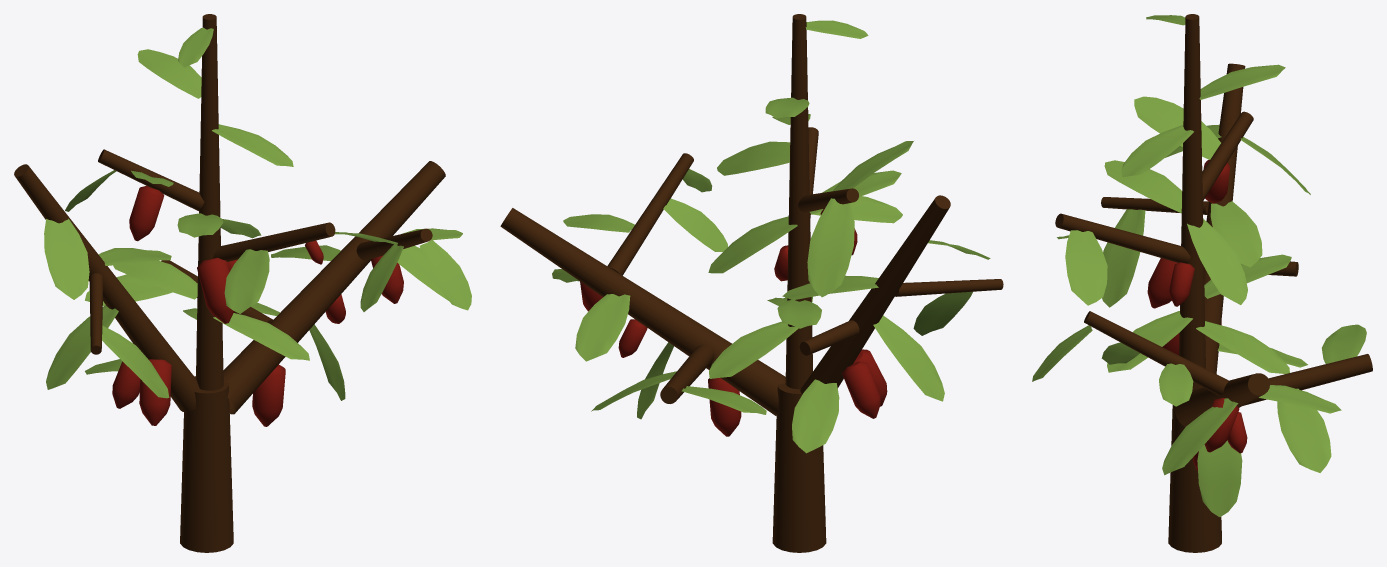
Rendered from CacaoPlant.FBX.
3 renders of one model, left to right at view 1: azimuth 30°, elevation 25°; view 2: azimuth 150°, elevation 25°; view 3: azimuth 270°, elevation 25°, orthographic.
Parts seen in each view (by area): view 1: CacaoPlant; view 2: CacaoPlant; view 3: CacaoPlant.
Part boxes in pixels (bbox=[...]): CacaoPlant: bbox=[14, 14, 471, 552]; CacaoPlant: bbox=[500, 14, 1003, 552]; CacaoPlant: bbox=[1032, 14, 1372, 552].
Bounding box in the file's own units: 38.68 × 44.29 × 26.05.
